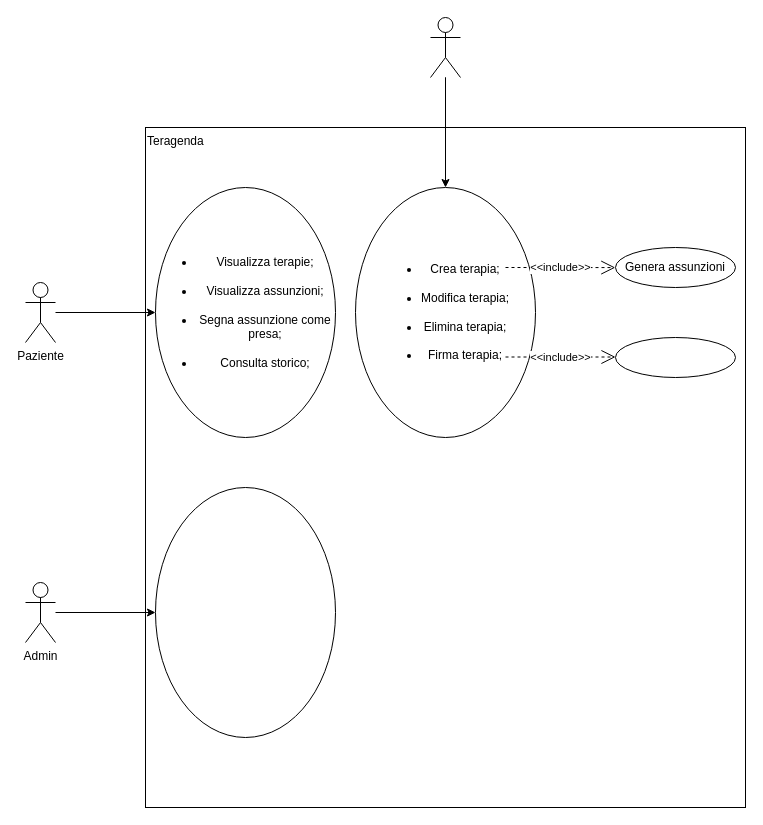
This 763x825 diagram has some shape labels left out. The shapes that lost their labels are listed below. From the top down, each one's centre as x and y in pixels, then its label:
[445,47]: Medico
[675,357]: Genera firma digitale
[245,612]: Gestisce utenti; Visualizza tutte le terapie; Elimina dati;
